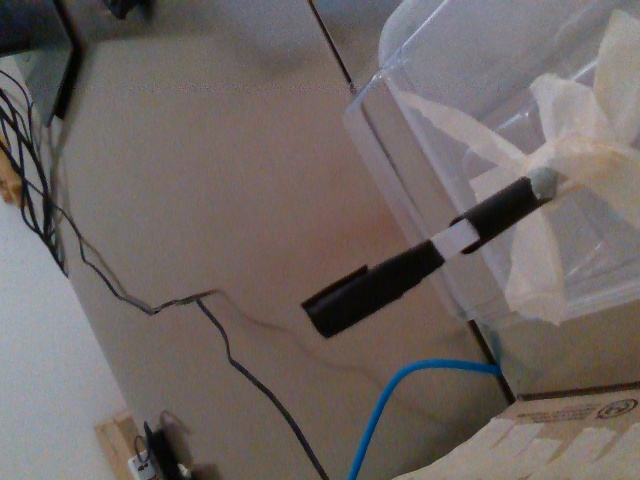test_strip: (301, 217, 478, 342)
